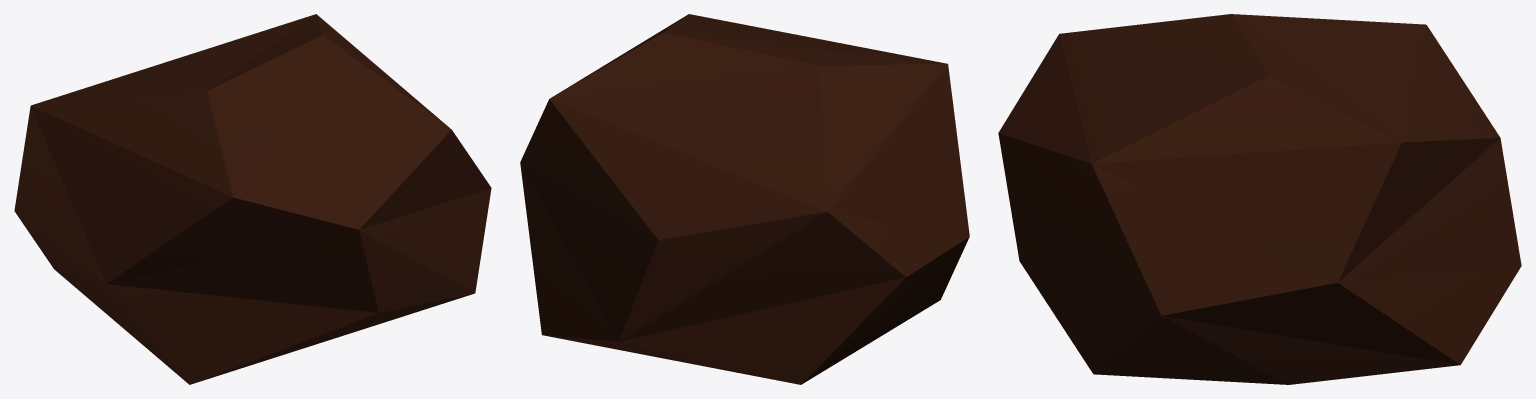
Rendered from rock_brown_s.glb.
3 views of the same model, side by side, from view 1: azimuth 30°, elevation 25°; view 2: azimuth 150°, elevation 25°; view 3: azimuth 270°, elevation 25° (orthographic). The views are drawn at different scales.
Visible parts, largest first — view 1: rock_brown_s_root_body; view 2: rock_brown_s_root_body; view 3: rock_brown_s_root_body.
Boxes of the visible parts, x1,y1,x2,y2 form: rock_brown_s_root_body: [14, 14, 491, 384]; rock_brown_s_root_body: [520, 14, 969, 384]; rock_brown_s_root_body: [998, 14, 1521, 384].
Size of the model in its own units: 0.457 by 0.3199 by 0.457.
